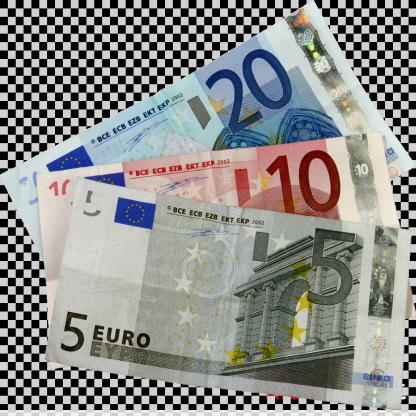euro_banknote: (24, 79, 394, 272), (56, 199, 406, 389), (40, 153, 399, 309)
